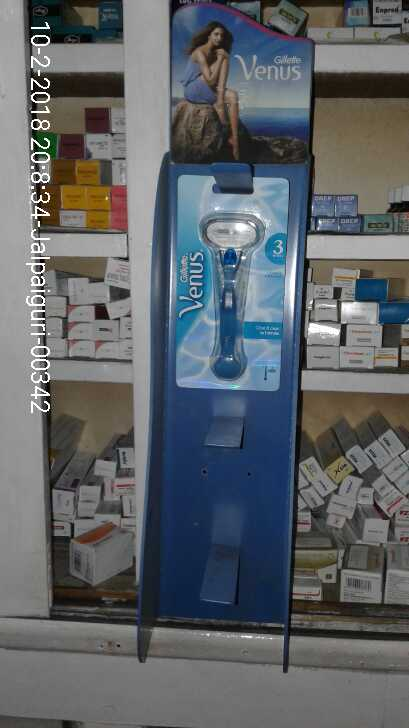venus: (169, 170, 287, 389)
